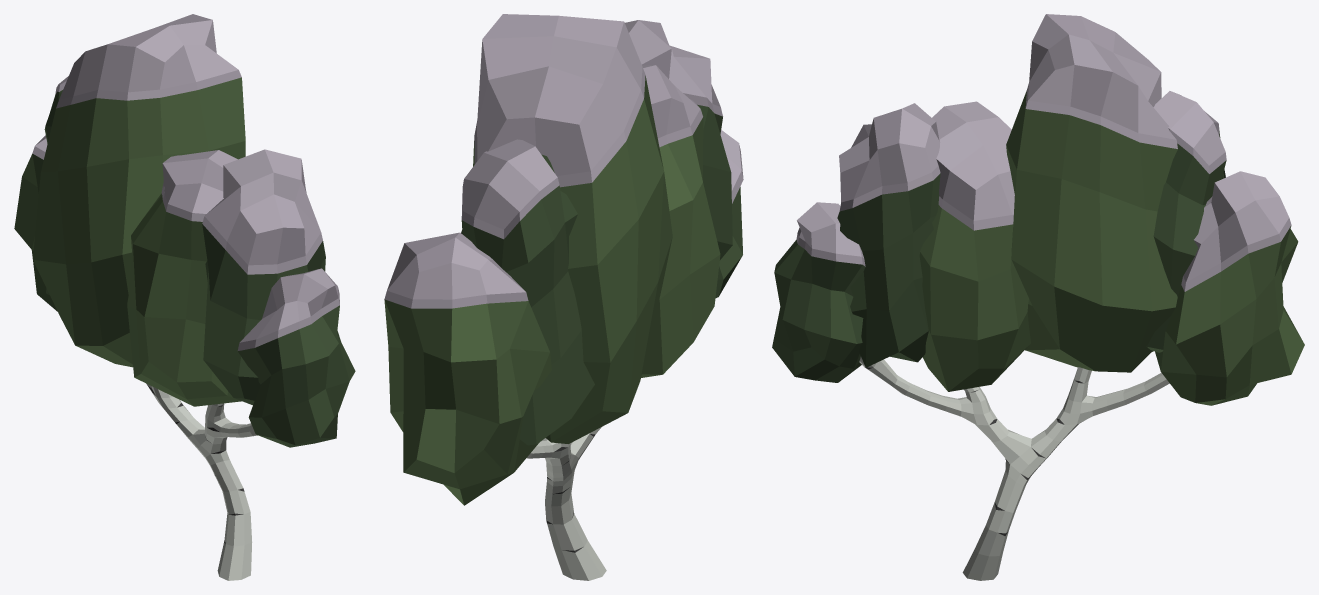
The model's file is BirchTree_Snow_4.glb.
The picture shows the model from 3 angles, left to right: view 1: azimuth 30°, elevation 25°; view 2: azimuth 150°, elevation 25°; view 3: azimuth 270°, elevation 25°; orthographic projection. The views are drawn at different scales.
Visible parts, largest first — view 1: Green, Snow, DarkGreen, White; view 2: Green, Snow, DarkGreen, White; view 3: Green, Snow, DarkGreen, White.
Part boxes in pixels (x1,y1,x2,y2): Green: (14, 77, 245, 406); Snow: (32, 14, 339, 350); DarkGreen: (44, 90, 355, 447); White: (146, 383, 257, 580); Green: (384, 75, 720, 505); Snow: (384, 14, 743, 308); DarkGreen: (461, 104, 742, 445); White: (526, 427, 606, 580); Green: (919, 90, 1304, 405); Snow: (796, 14, 1291, 291); DarkGreen: (772, 131, 1226, 382); White: (859, 357, 1169, 580).
Size of the model in its own units: 1.15 by 3.6 by 3.29.
